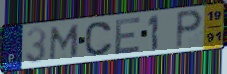1: (147, 14, 160, 51)
3: (24, 25, 48, 66)
C: (84, 20, 114, 58)
E: (113, 15, 143, 56)
M: (48, 23, 82, 62)
P: (174, 9, 205, 51)
